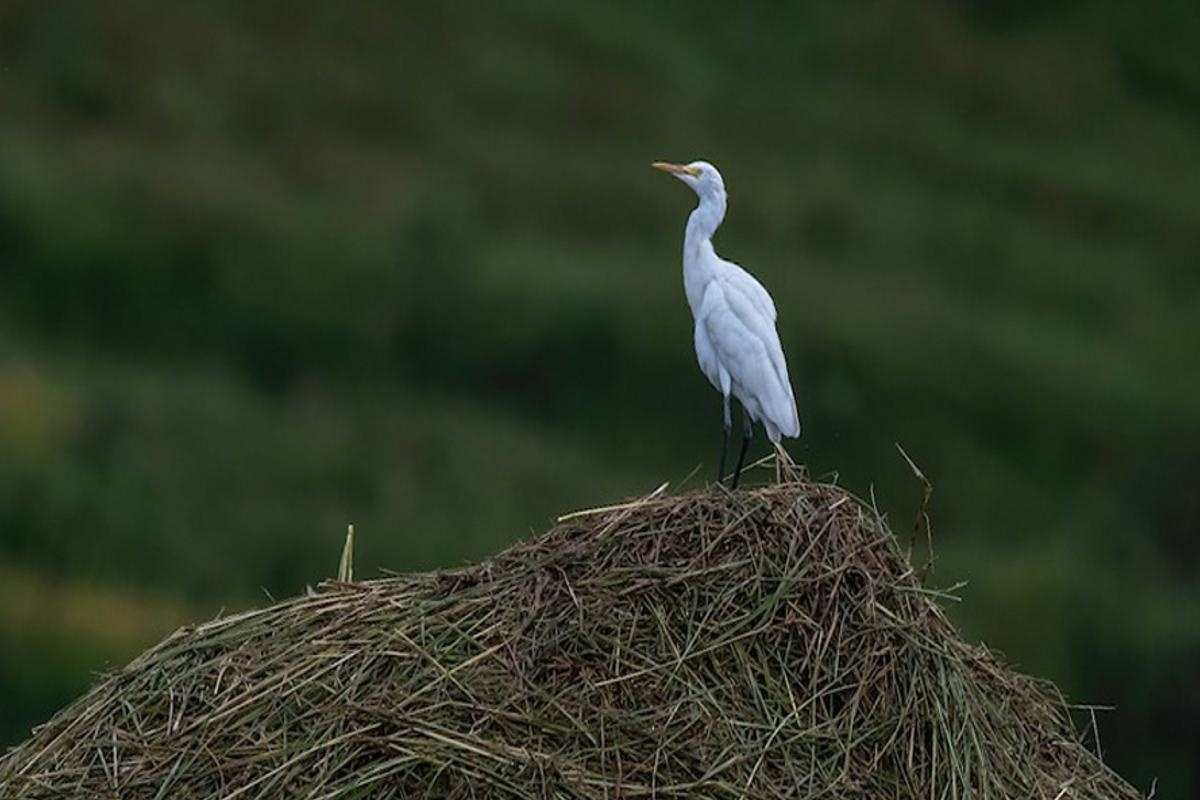egret: (646, 146, 821, 456)
